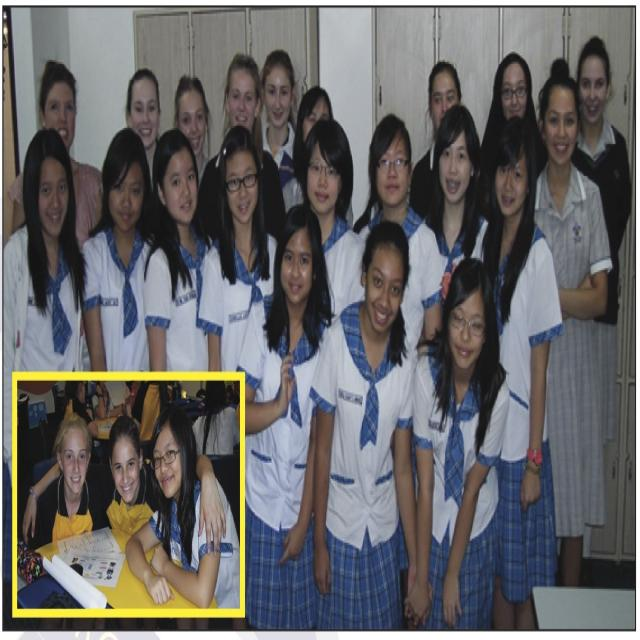body: (308, 214, 438, 639), (232, 196, 343, 639), (480, 111, 567, 632), (531, 54, 615, 590), (352, 113, 446, 575), (402, 252, 513, 639), (20, 413, 227, 558), (568, 30, 636, 448), (2, 124, 88, 453), (124, 404, 240, 609), (49, 378, 239, 488), (196, 123, 279, 374), (76, 123, 158, 372), (5, 55, 104, 248), (192, 50, 290, 242), (141, 125, 215, 374), (297, 112, 370, 323), (420, 101, 490, 301), (27, 412, 112, 551), (476, 50, 546, 210), (409, 56, 466, 227), (257, 47, 307, 218), (124, 67, 166, 238), (171, 72, 213, 188), (294, 82, 334, 174)
